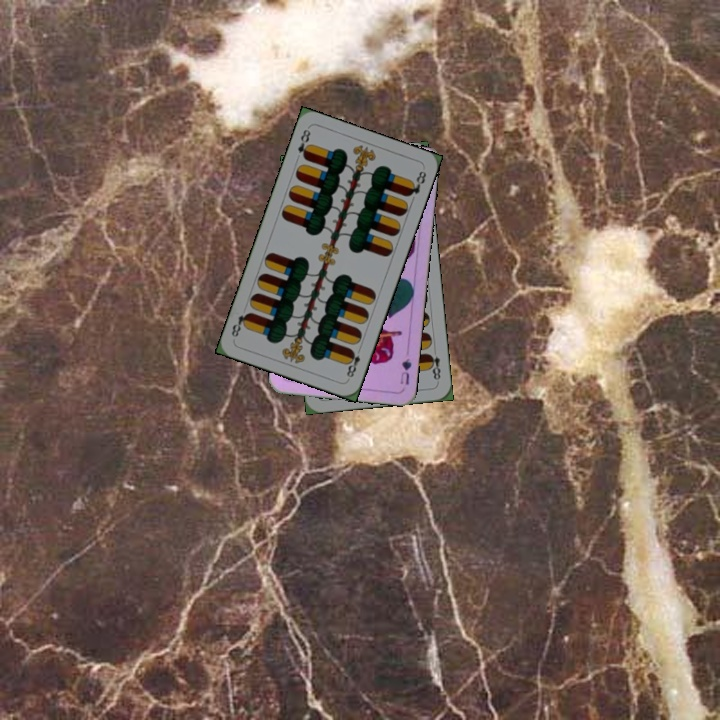E8: (342, 343, 364, 382), (424, 344, 443, 385), (293, 125, 313, 162)
GU: (396, 355, 414, 387)
